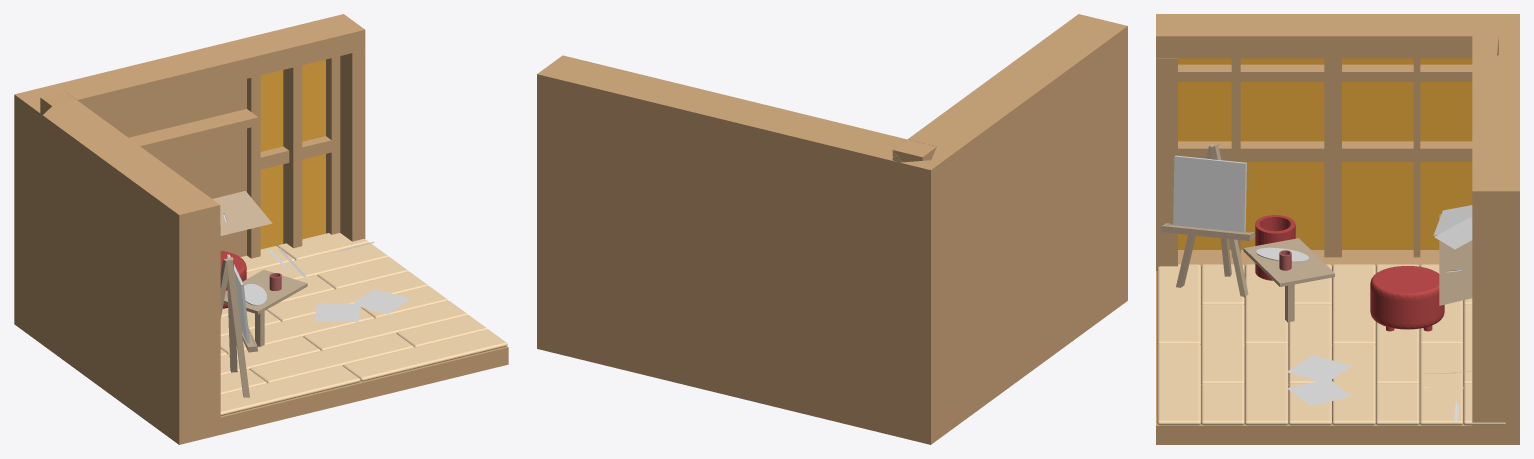
Rendered from myartstudio.glb.
3 views of the same model, side by side, from view 1: azimuth 30°, elevation 25°; view 2: azimuth 150°, elevation 25°; view 3: azimuth 270°, elevation 25° (orthographic). The views are drawn at different scales.
Visible parts, largest first — view 1: Cube, Plane.002, Plane.014, Plane.003, Plane.017, Plane.010, Plane.009, Plane.015; view 2: Cube; view 3: Cube, Plane.002, Plane.015, Cylinder, Plane.017, Plane.014, Plane.003, Cylinder.001, Plane.010, Plane.009, Plane.005, Plane.004 (+1 smaller).
Boxes of the visible parts, x1,y1,x2,y2 form: Cube: (14,14,508,444); Plane.002: (220,233,507,415); Plane.014: (220,257,257,397); Plane.003: (212,191,272,235); Plane.017: (223,269,307,346); Plane.010: (352,289,410,314); Plane.009: (314,303,360,321); Plane.015: (227,254,249,343); Cube: (537,14,1127,444); Cube: (1156,14,1519,444); Plane.002: (1157,264,1505,425); Plane.015: (1173,155,1246,232); Cylinder: (1370,266,1444,331); Plane.017: (1243,238,1334,323); Plane.014: (1161,144,1254,298); Plane.003: (1439,214,1472,305); Cylinder.001: (1255,215,1295,280); Plane.010: (1287,378,1351,405); Plane.009: (1287,355,1351,380); Plane.005: (1434,217,1472,249); Plane.004: (1433,205,1472,235).
Size of the model in its own units: 3.01 by 2 by 2.6.
